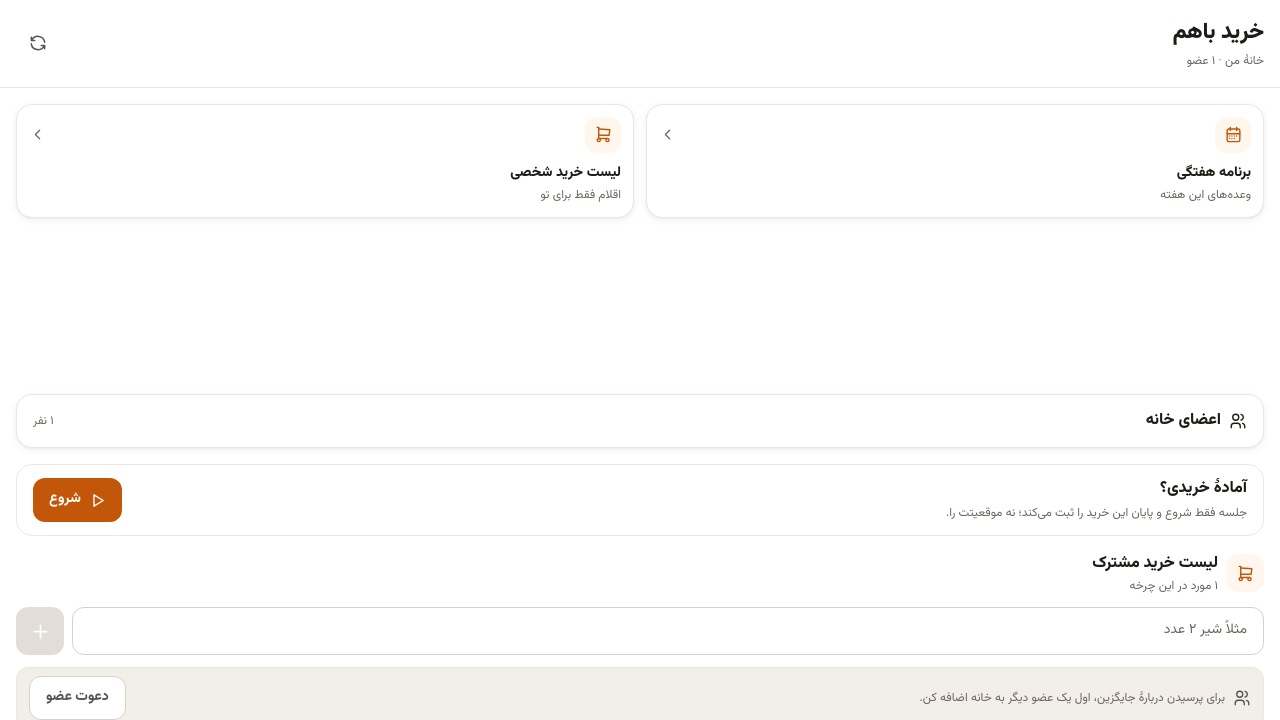
it: HouseholdPage thin-slice smoke › disables unavailable for a one-member home and opens the invite path honestly
Expected: the text "اول یک عضو دیگر به خانه اضافه کن" is shown, [920,689,1225,707]
Click the button "دعوت عضو". click: (77, 698)
box: [29,676,126,719]
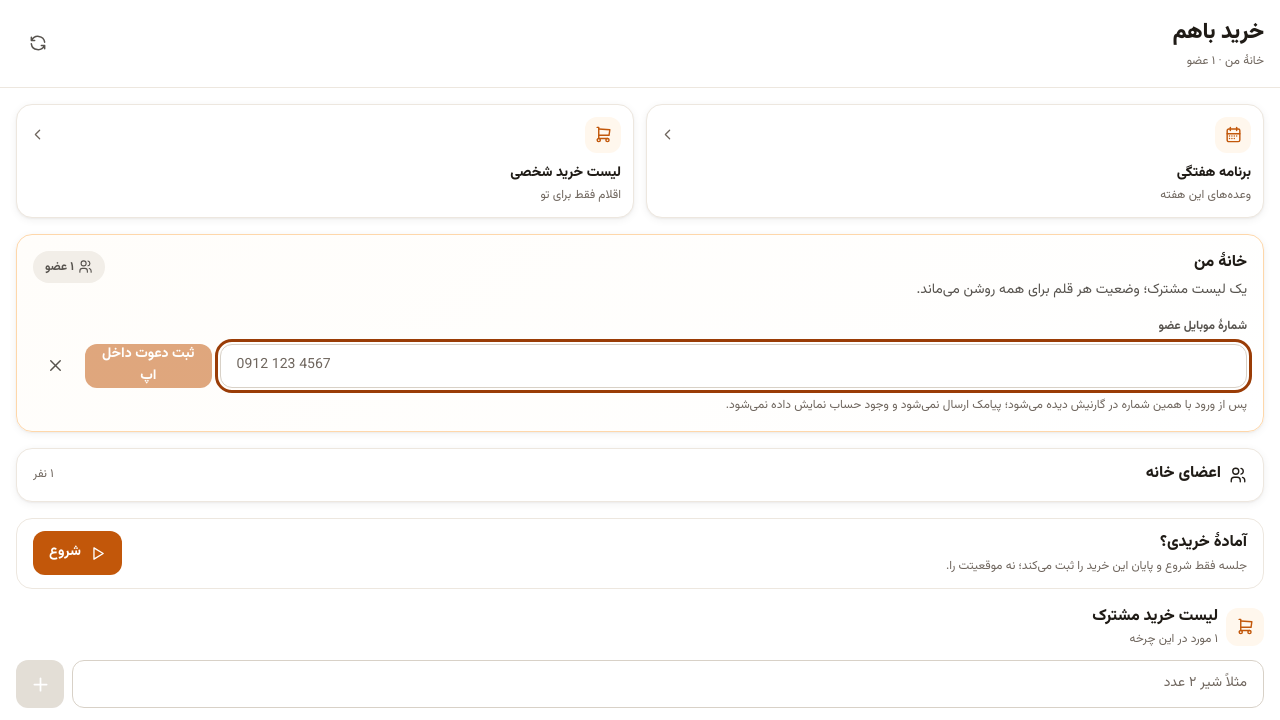
Result: the field labelled "شمارهٔ موبایل عضو" is shown at [220,344,1247,388]
